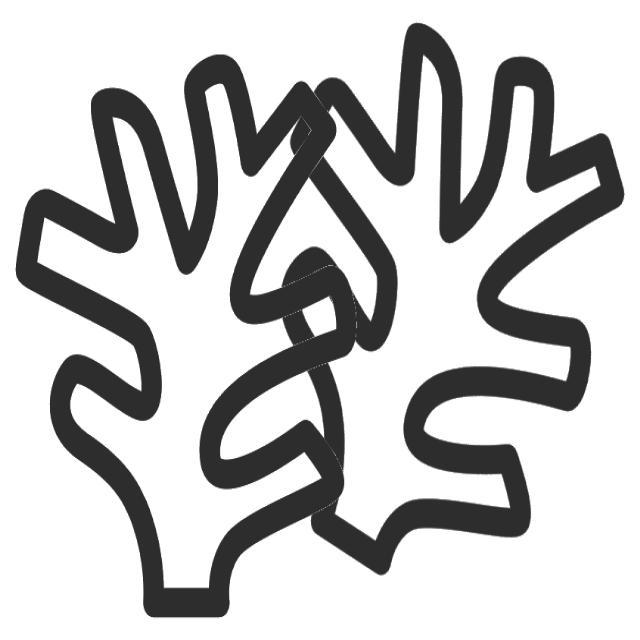coral: (10, 48, 370, 627), (276, 10, 633, 590)
